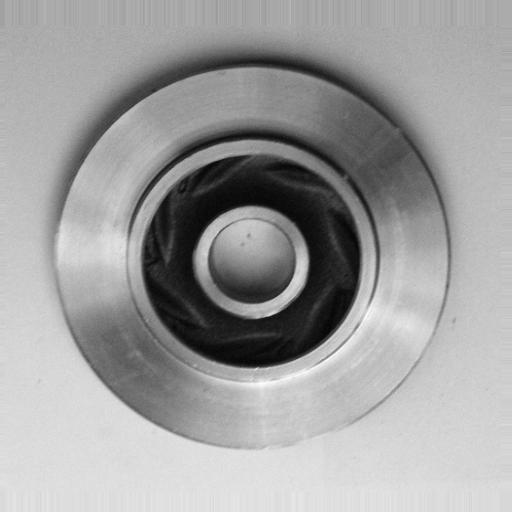scratch: (244, 421, 359, 466)
unpolished_casting: (52, 59, 455, 456)
